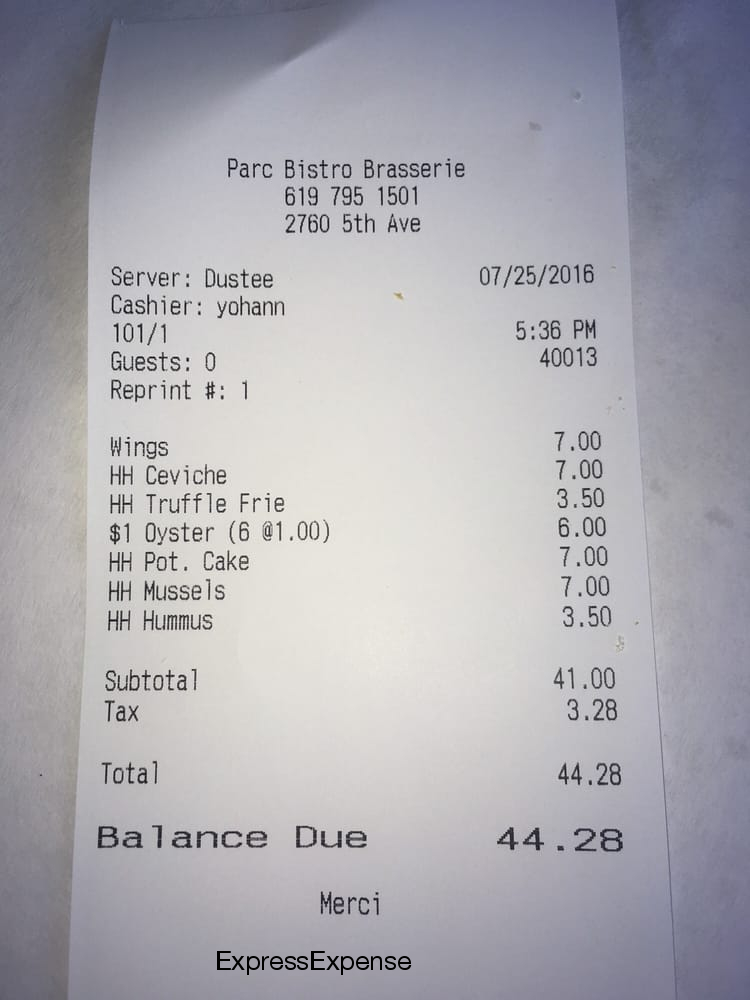Additional details: (253, 879, 482, 936)
Purchase summary: (91, 257, 661, 884)
Receipt: (89, 3, 677, 939)
Shop details: (129, 134, 603, 251)
